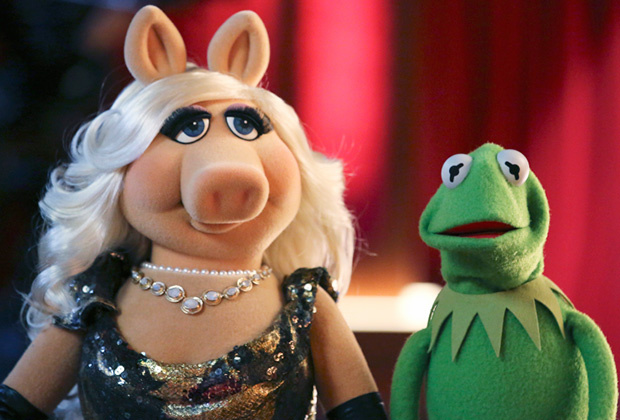kermit: (414, 141, 550, 291)
